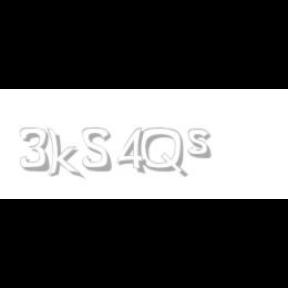3: (20, 128, 50, 172)
4: (116, 128, 148, 174)
Q: (140, 128, 186, 178)
S: (82, 128, 112, 172)
k: (46, 128, 84, 180)
s: (188, 128, 216, 160)
